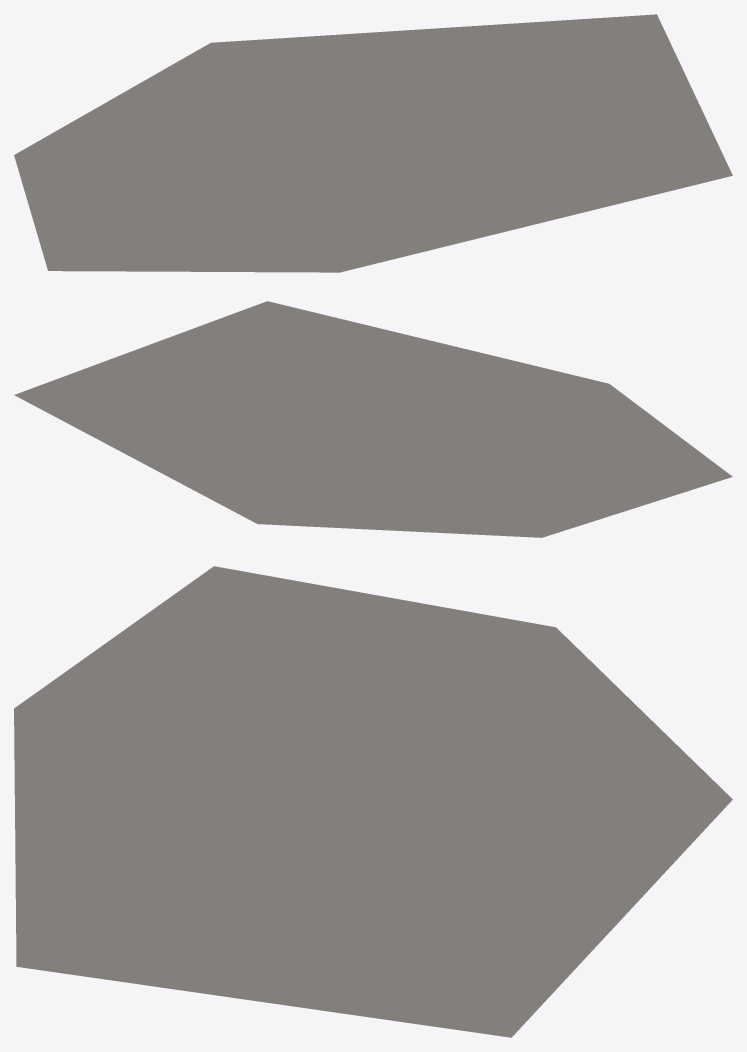
File: SF_Env_Stonepath_04.fbx
3 views of the same model, one above another, from view 1: azimuth 30°, elevation 25°; view 2: azimuth 150°, elevation 25°; view 3: azimuth 270°, elevation 25° (orthographic). The views are drawn at different scales.
Parts seen in each view (by area): view 1: SF_Env_Stonepath_04; view 2: SF_Env_Stonepath_04; view 3: SF_Env_Stonepath_04.
Boxes of the visible parts, x1=… form: SF_Env_Stonepath_04: x1=14, y1=14, x2=732, y2=272; SF_Env_Stonepath_04: x1=14, y1=301, x2=732, y2=537; SF_Env_Stonepath_04: x1=14, y1=566, x2=732, y2=1037.
Size of the model in its own units: 1.23 by 0 by 0.7903.
